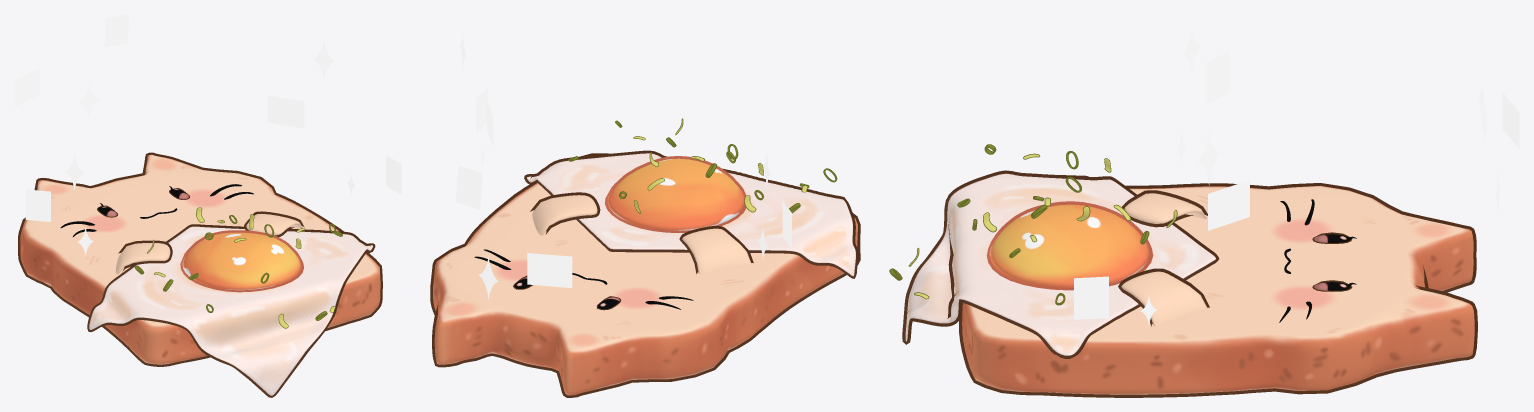
File: kitty_breggfast.glb
3 renders of one model, left to right at view 1: azimuth 30°, elevation 25°; view 2: azimuth 150°, elevation 25°; view 3: azimuth 270°, elevation 25°, orthographic. The views are drawn at different scales.
Parts seen in each view (by area): view 1: Bread, Egg_White, Yolk, Hand.001, Sparkle.007, Hand.002, Sparkle.008, Sparkle.005, Sparkle.006, Sparkle.004; view 2: Bread, Egg_White, Yolk, Hand.001, Hand.002, Sparkle.005, Sparkle.006, Sparkle.004; view 3: Bread, Egg_White, Yolk, Hand.002, Hand.001, Sparkle.007, Sparkle.004, Sparkle.008, Sparkle.005.
Boxes of the visible parts, x1,y1,x2,y2 form: Bread: [18, 152, 382, 366]; Egg_White: [87, 224, 375, 397]; Yolk: [180, 230, 303, 292]; Hand.001: [116, 240, 172, 274]; Sparkle.007: [267, 95, 304, 128]; Hand.002: [244, 211, 304, 237]; Sparkle.008: [25, 189, 50, 221]; Sparkle.005: [14, 67, 39, 106]; Sparkle.006: [104, 14, 129, 47]; Sparkle.004: [386, 155, 401, 194]; Bread: [430, 153, 860, 397]; Egg_White: [524, 150, 858, 278]; Yolk: [605, 156, 746, 232]; Hand.001: [679, 226, 753, 273]; Hand.002: [530, 192, 600, 235]; Sparkle.005: [527, 253, 572, 287]; Sparkle.006: [455, 165, 482, 209]; Sparkle.004: [476, 87, 487, 133]; Bread: [959, 183, 1477, 397]; Egg_White: [902, 170, 1219, 358]; Yolk: [986, 201, 1153, 290]; Hand.002: [1118, 268, 1209, 326]; Hand.001: [1122, 190, 1207, 227]; Sparkle.007: [1208, 180, 1249, 230]; Sparkle.004: [1074, 276, 1108, 319]; Sparkle.008: [1205, 52, 1229, 103]; Sparkle.005: [1502, 92, 1519, 149].
Bounding box in the file's own units: 0.1938 × 0.1406 × 0.2439.
Materials: 8 (3 with a texture image).
